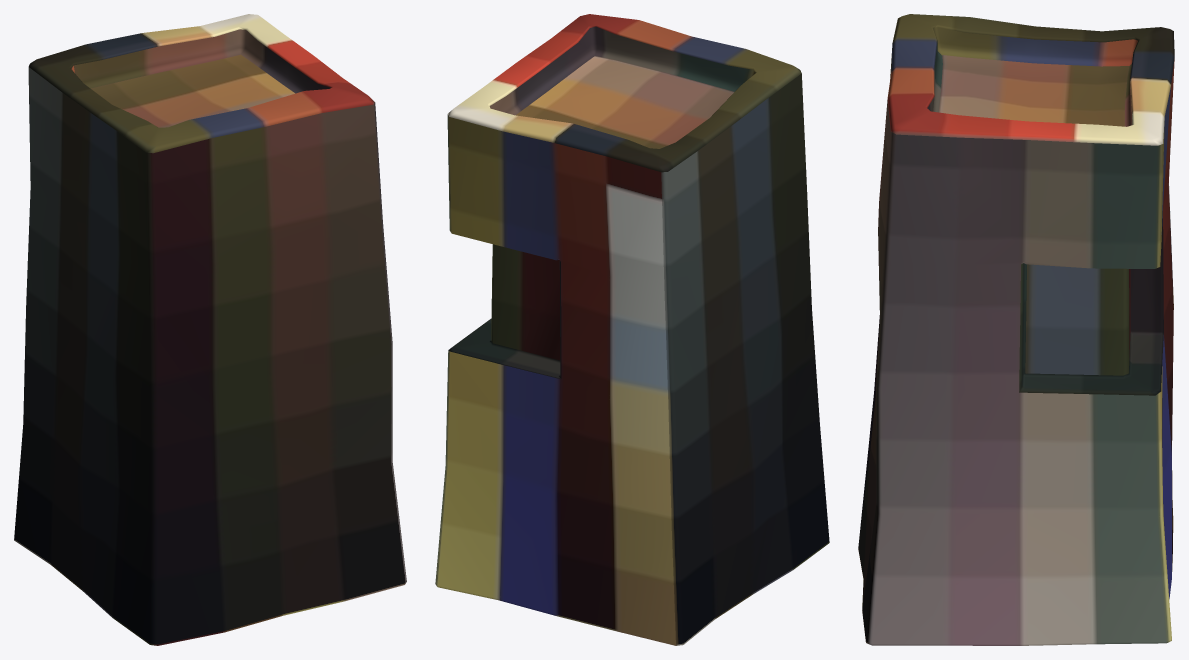
File: MSH_Building_010.glb
3 views of the same model, side by side, from view 1: azimuth 30°, elevation 25°; view 2: azimuth 150°, elevation 25°; view 3: azimuth 270°, elevation 25° (orthographic). The views are drawn at different scales.
Visible parts, largest first — view 1: Base.010; view 2: Base.010; view 3: Base.010.
Part boxes in pixels (x1=…): Base.010: x1=14, y1=14, x2=406, y2=645; Base.010: x1=435, y1=14, x2=829, y2=645; Base.010: x1=858, y1=14, x2=1174, y2=645.
Bounding box in the file's own units: 5.38 × 9.68 × 5.41.
1 material, 1 textured.
